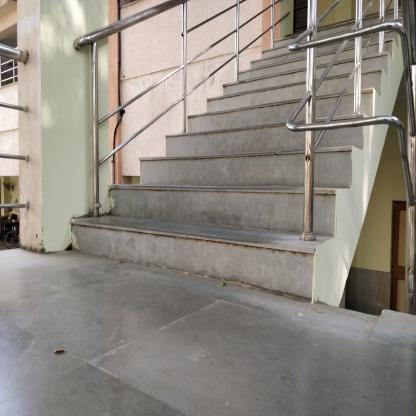stairs: (207, 96, 287, 304)
